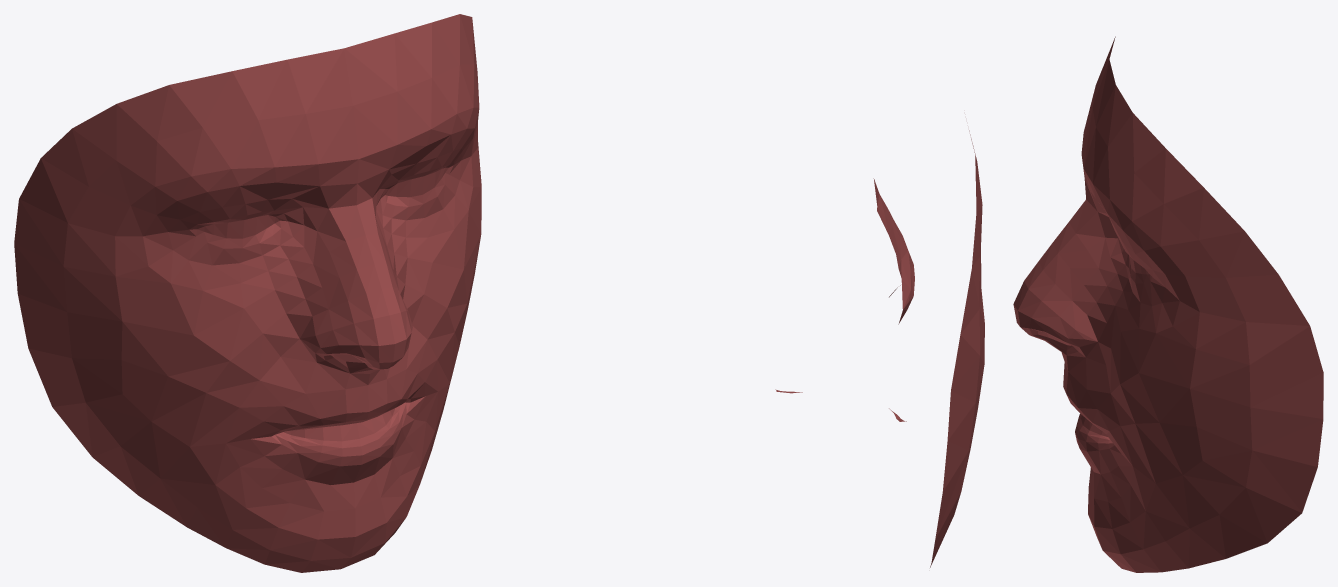
File: canonical.glb
3 views of the same model, side by side, from view 1: azimuth 30°, elevation 25°; view 2: azimuth 150°, elevation 25°; view 3: azimuth 270°, elevation 25° (orthographic). The views are drawn at different scales.
Size of the model in its own units: 15.49 by 17.67 by 10.02.
